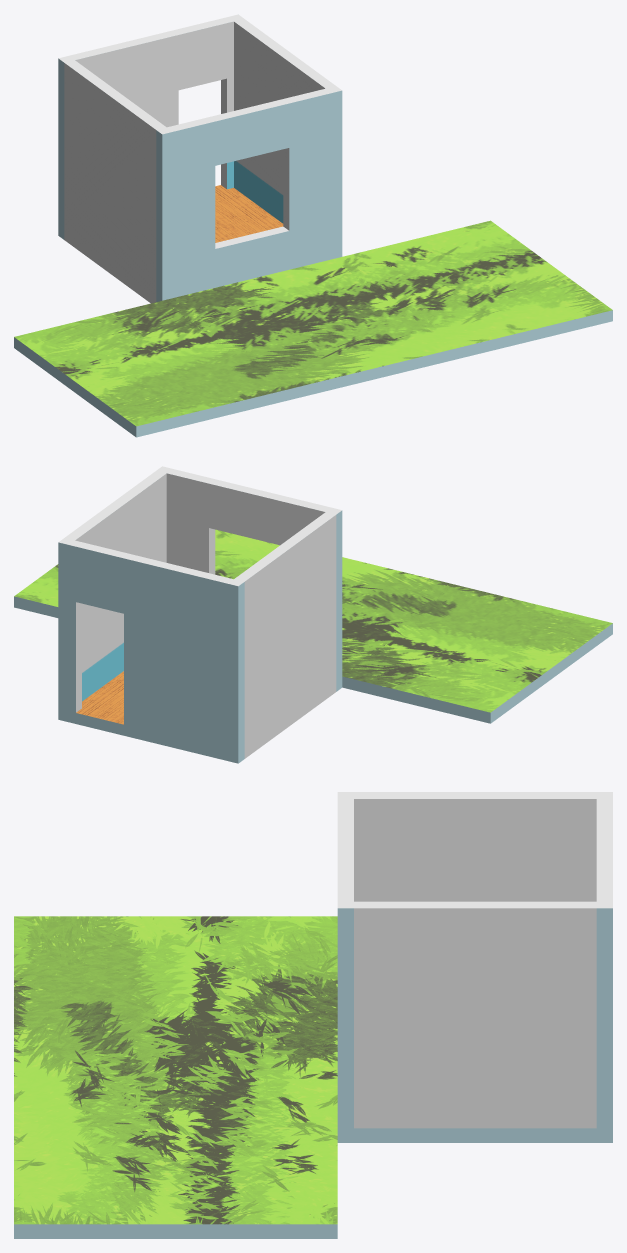
File: RoomEnvironmentV2.fbx
3 views of the same model, one above another, from view 1: azimuth 30°, elevation 25°; view 2: azimuth 150°, elevation 25°; view 3: azimuth 270°, elevation 25° (orthographic). The views are drawn at different scales.
Parts seen in each view (by area): view 1: Room; view 2: Room; view 3: Room.
Boxes of the visible parts, x1,y1,x2,y2 form: Room: [14, 14, 612, 437]; Room: [14, 466, 612, 763]; Room: [14, 792, 612, 1238].
Bounding box in the file's own units: 900 × 320 × 740.
Materials: 3 (3 with a texture image).
